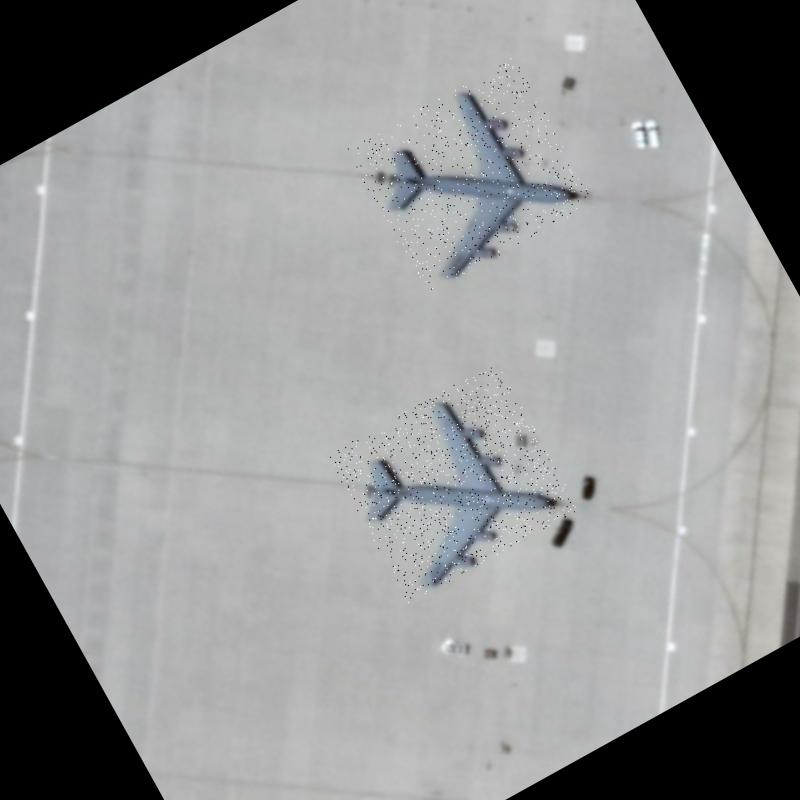A14: (326, 360, 579, 603), (346, 56, 594, 295)
